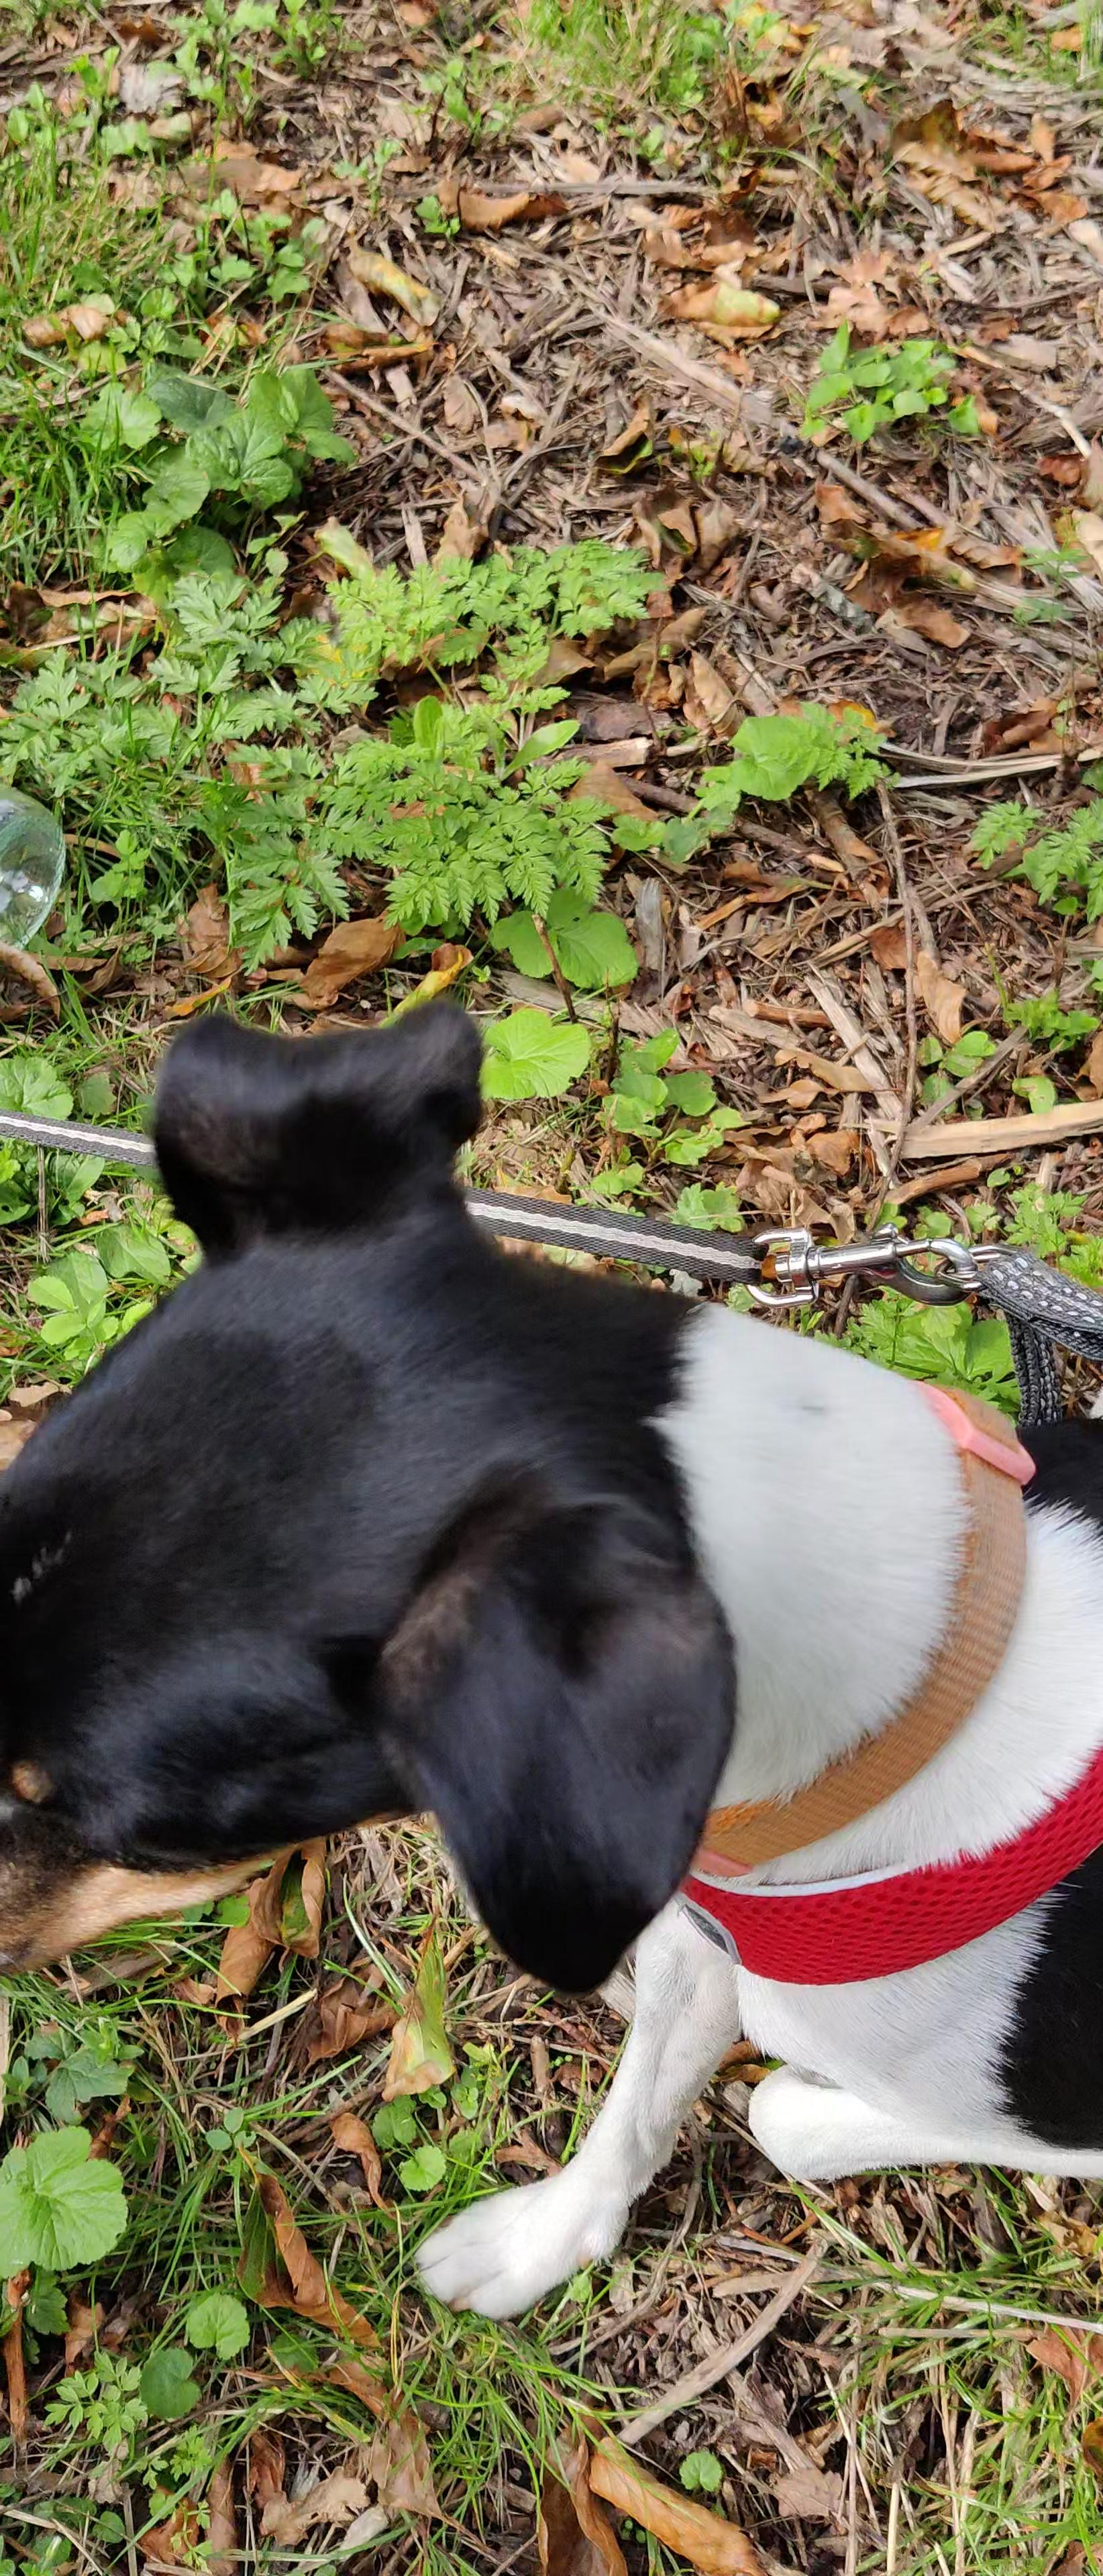Dog: (0, 994, 1103, 2330)
